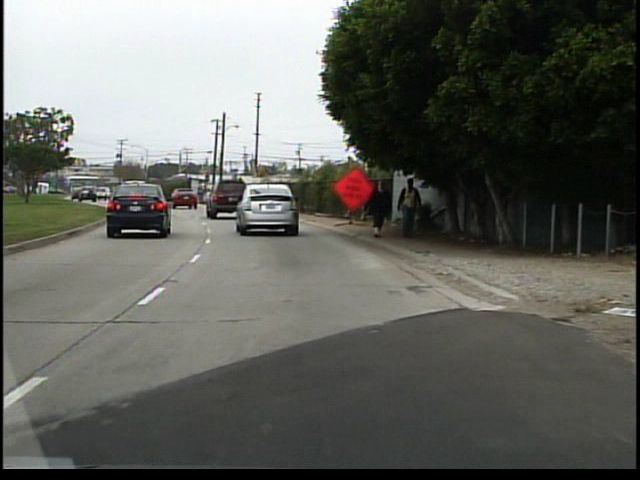person: (358, 173, 395, 244), (395, 176, 422, 241)
